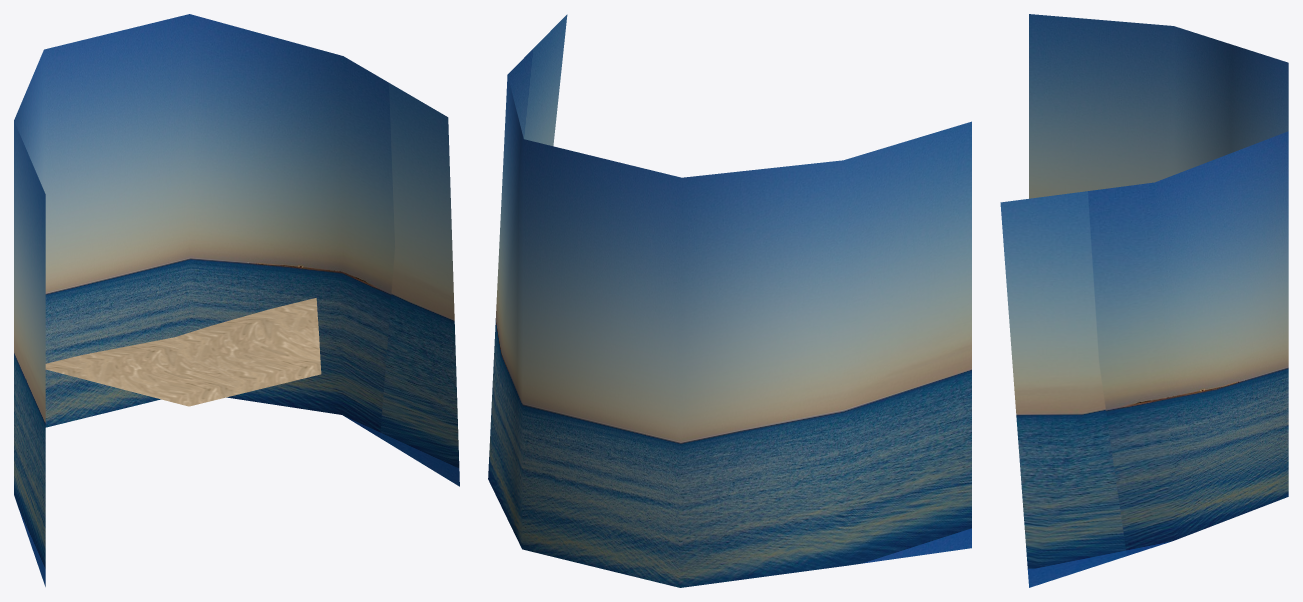
The model's file is sky.fbx.
The picture shows the model from 3 angles, left to right: view 1: azimuth 30°, elevation 25°; view 2: azimuth 150°, elevation 25°; view 3: azimuth 270°, elevation 25°; orthographic projection. The views are drawn at different scales.
Parts seen in each view (by area): view 1: sky, beach; view 2: sky; view 3: sky.
Part boxes in pixels (box(x1,y1,x2,y2)): sky: box(14, 14, 459, 586); beach: box(45, 298, 321, 406); sky: box(488, 14, 971, 587); sky: box(1000, 14, 1288, 587).
Bounding box in the file's own units: 48.14 × 45.26 × 30.07.
Materials: 2 (2 with a texture image).
